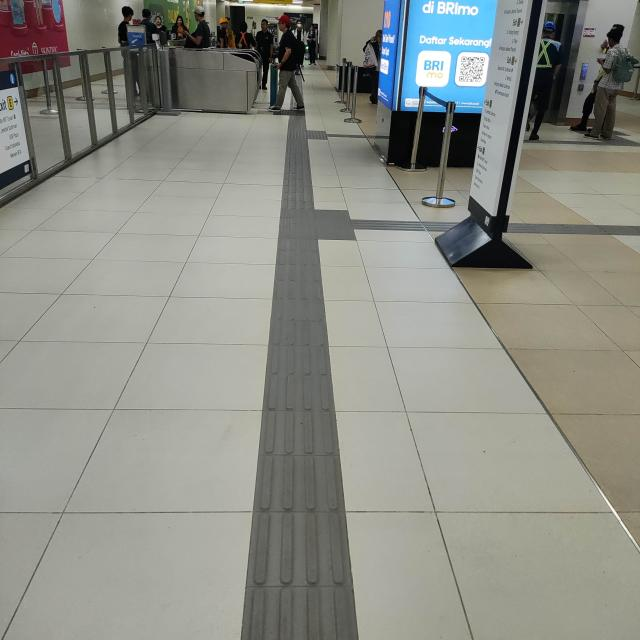lurus: (263, 125, 333, 640)
